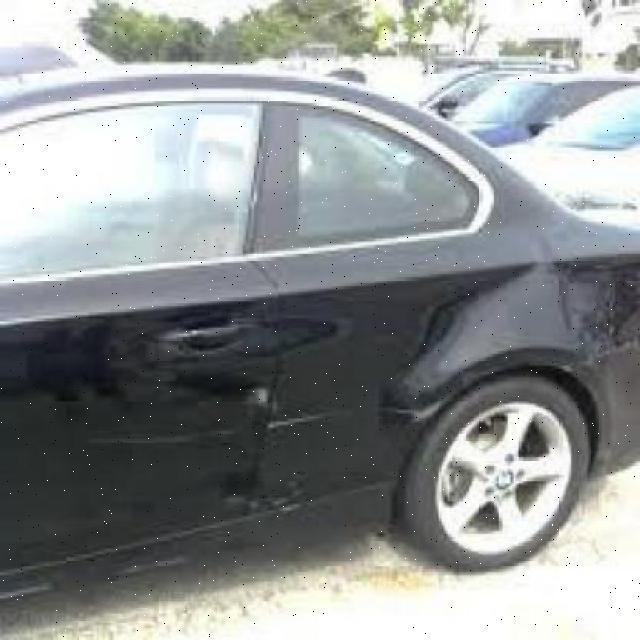damage: (79, 399, 448, 458), (194, 460, 307, 520)
